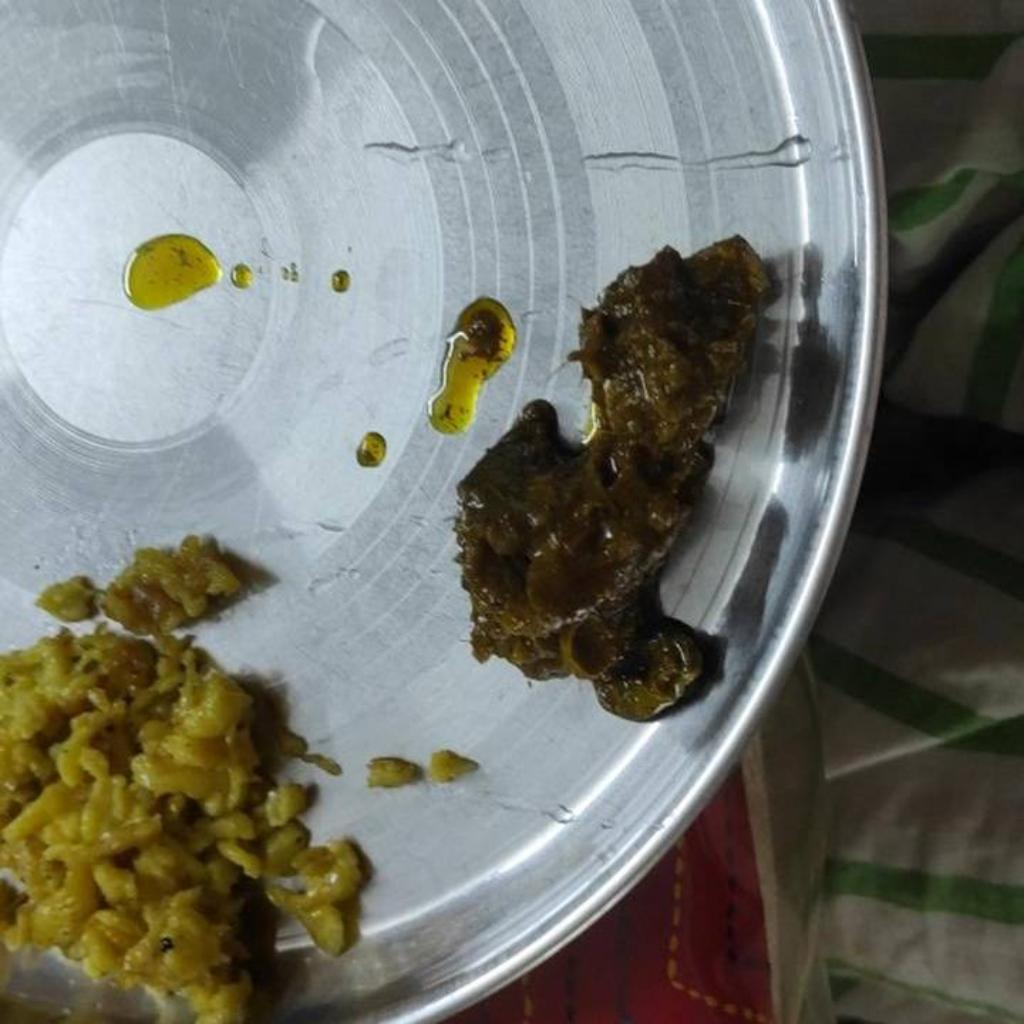beef: (457, 238, 768, 721)
vegetable: (0, 538, 368, 1023)
